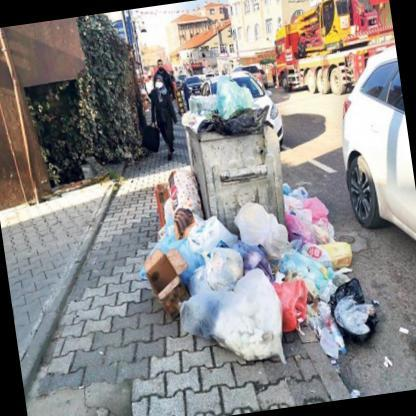Garbage: (176, 217, 296, 375), (262, 224, 384, 378), (150, 155, 209, 266), (177, 77, 271, 139), (282, 166, 338, 265)
